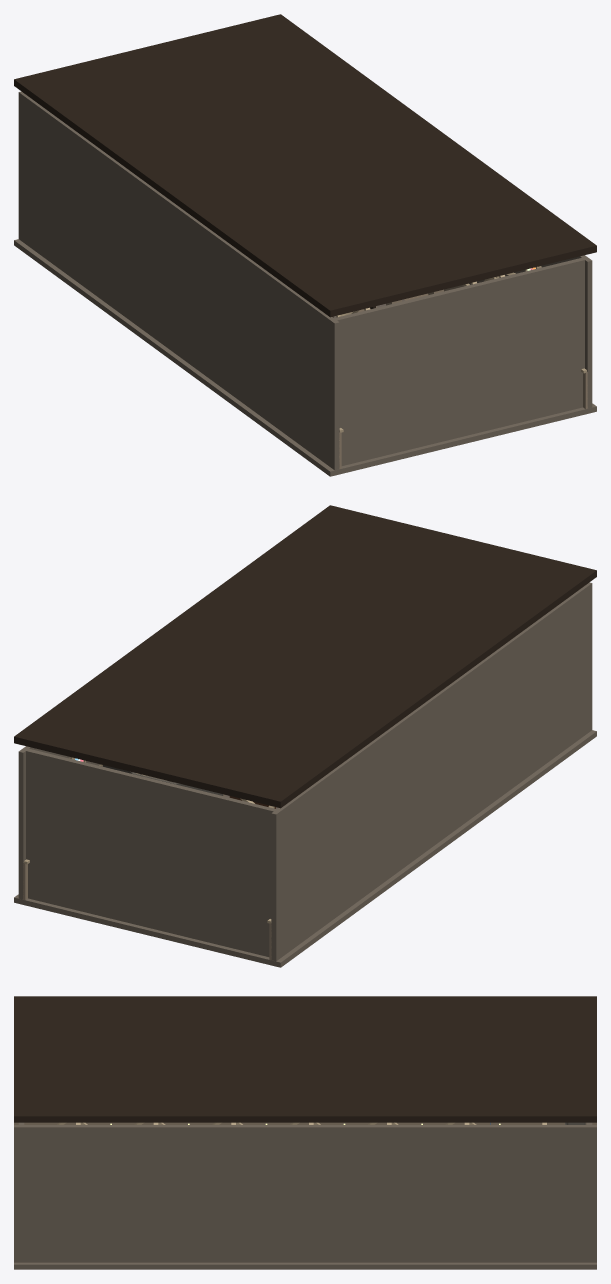
Rendered from bariloche.glb.
The picture shows the model from 3 angles, top to bottom: view 1: azimuth 30°, elevation 25°; view 2: azimuth 150°, elevation 25°; view 3: azimuth 270°, elevation 25°; orthographic projection. The views are drawn at different scales.
Bounding box in the file's own units: 19 × 11.3 × 39.
